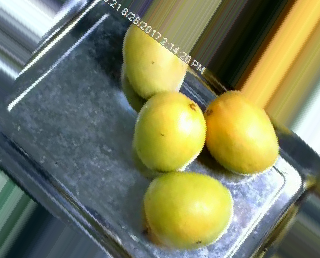Mango: (140, 170, 232, 246), (126, 87, 205, 173), (204, 91, 281, 175)
